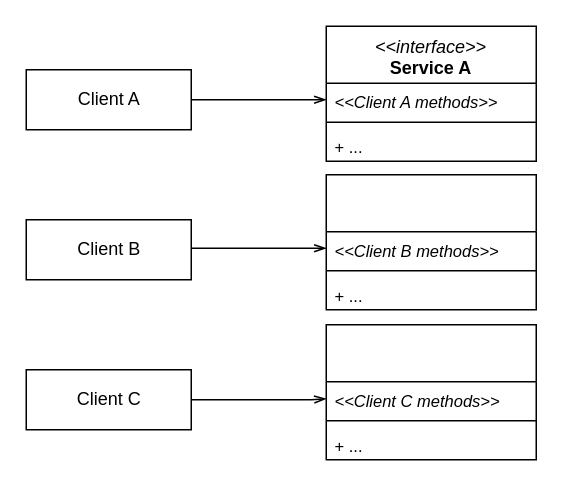
Some shapes in this 563 by 491 pixel diagram are drawn without their labels. The shapes that lost their labels are listed below. From the top down, each one's box as (x1, y1, x2, y2) in pixels, then its label:
(325, 173, 536, 310): <<interface>> Service B
(325, 323, 536, 460): <<interface>> Service C
